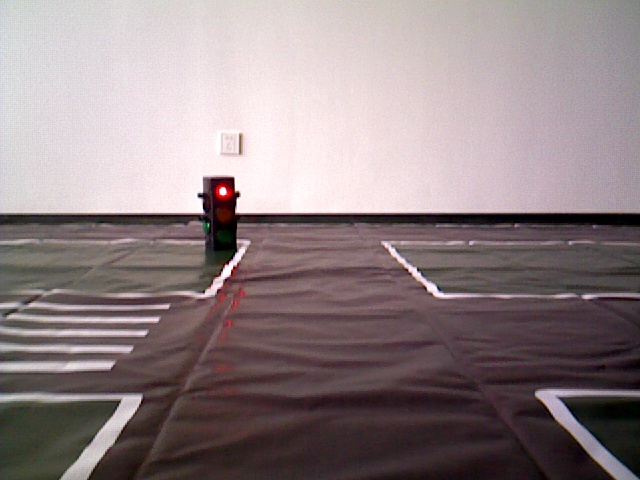red: (201, 181, 233, 253)
